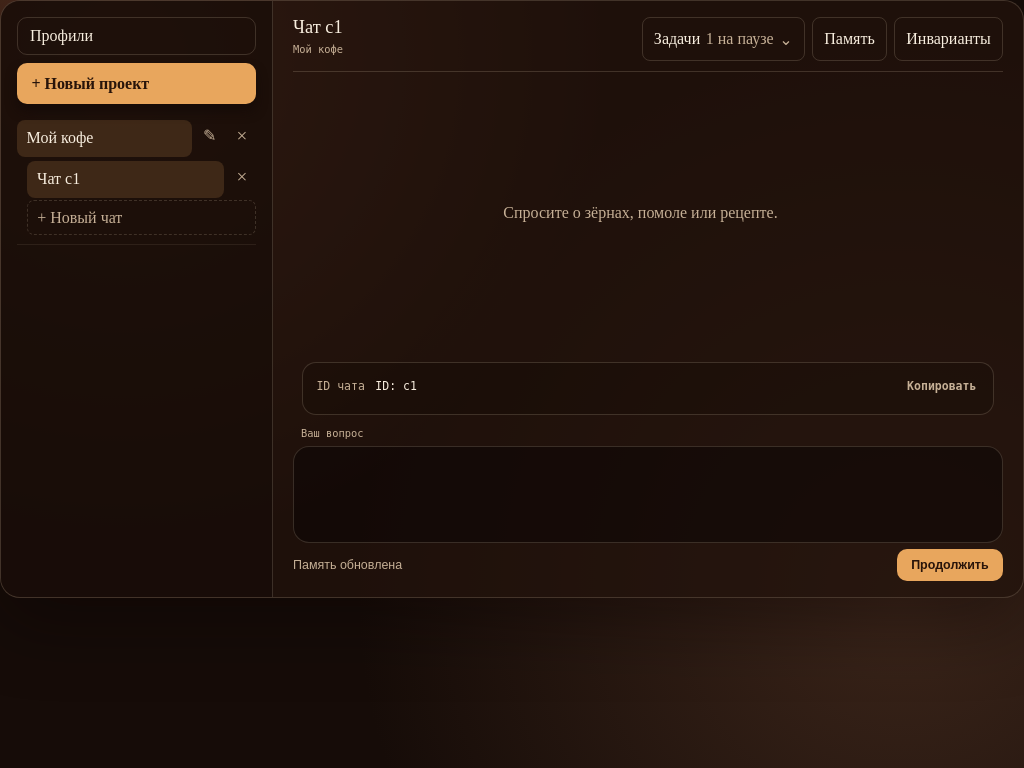
it: BaristaWorkspace › показывает paused и done состояния плана без дополнительного управления в карточке
The image size is (1024, 768).
What coordinates should you click on to do the following:
click the button "Задачи 1 на паузе ⌄"
I would click on:
 (723, 39)
Its box is [642,17,805,61].
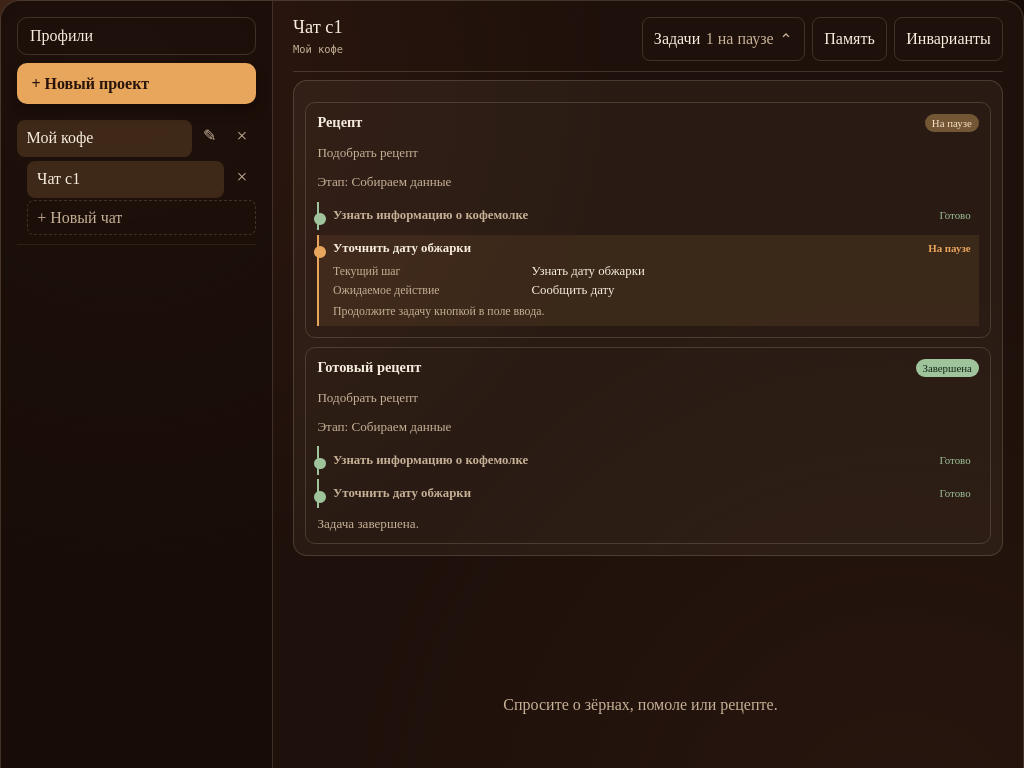
Expected: the list item "Уточнить дату обжарки" shows "На паузе", [928,242,971,254]
Expected: the text "Продолжите задачу кнопкой в поле ввода." is shown, [333,304,544,318]
Expected: the text "Готово" is shown 2 times, [940,454,971,466]; [940,487,971,499]
